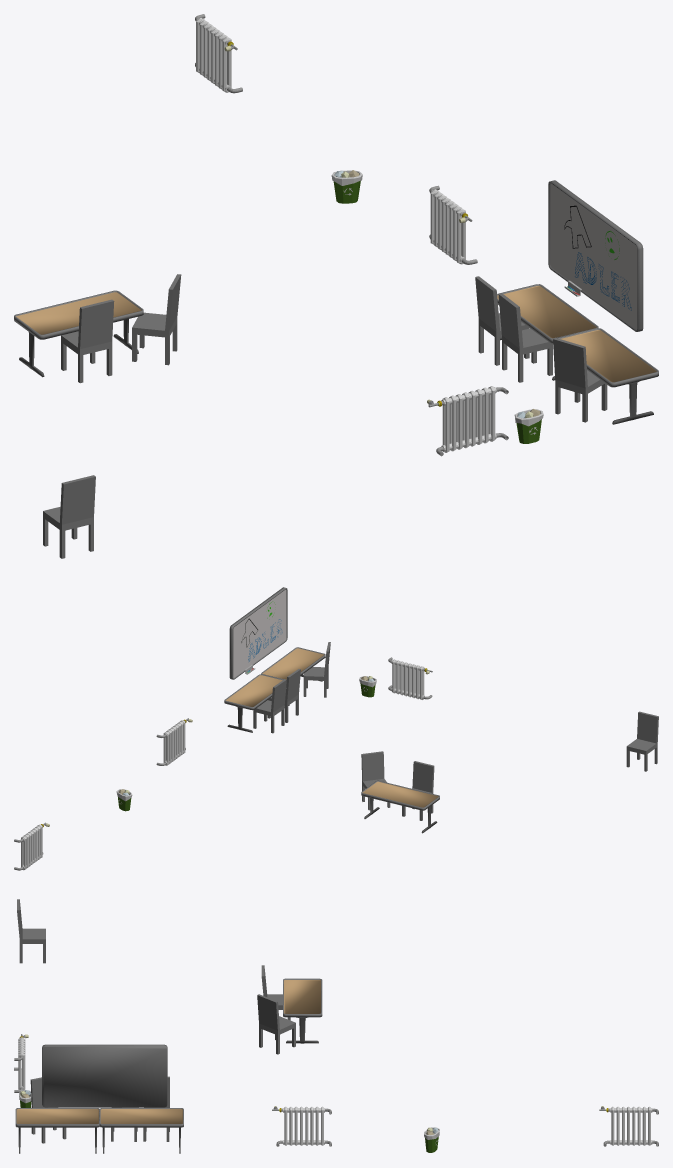
The picture shows the model from 3 angles, top to bottom: view 1: azimuth 30°, elevation 25°; view 2: azimuth 150°, elevation 25°; view 3: azimuth 270°, elevation 25°; orthographic projection. The views are drawn at different scales.
Parts seen in each view (by area): view 1: Deko_L_Shape campus I; view 2: Deko_L_Shape campus I; view 3: Deko_L_Shape campus I.
Boxes of the visible parts, left/top/right/bottom form: Deko_L_Shape campus I: left=14, top=14, right=658, bottom=558; Deko_L_Shape campus I: left=14, top=587, right=658, bottom=870; Deko_L_Shape campus I: left=14, top=899, right=658, bottom=1153.
Bounding box in the file's own units: 9.46 × 2.36 × 12.63.
Materials: 1 (1 with a texture image).
